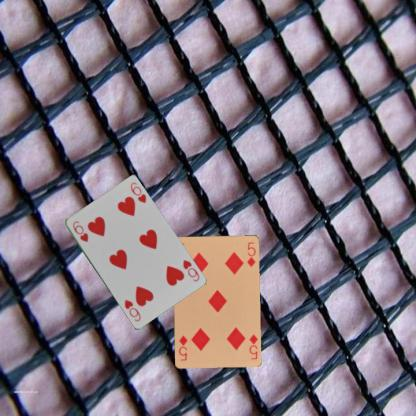5d: (247, 332, 259, 361)
6h: (180, 257, 200, 283), (70, 219, 89, 244)
